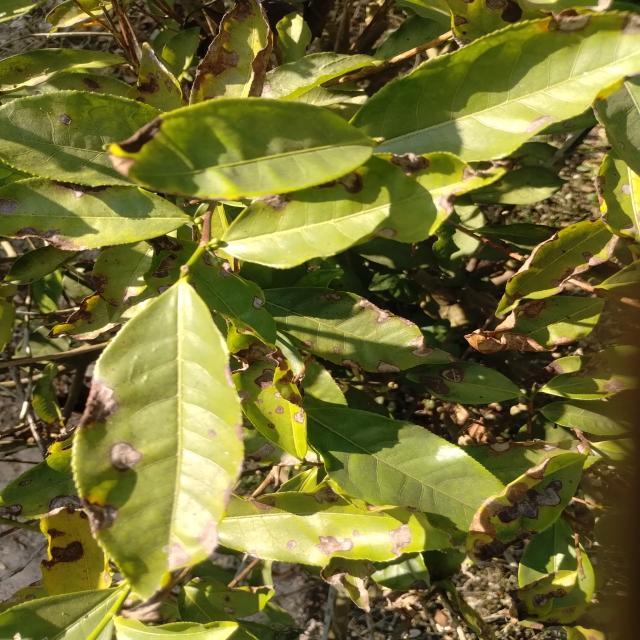Leaf: (72, 279, 244, 599), (351, 12, 640, 161), (222, 153, 504, 268), (108, 98, 375, 200), (308, 405, 504, 531), (219, 492, 451, 566), (264, 287, 450, 373), (0, 91, 159, 186), (0, 178, 189, 251), (466, 452, 587, 562), (48, 242, 177, 340), (496, 219, 617, 315), (227, 320, 308, 460), (190, 0, 271, 104), (465, 296, 604, 353), (190, 253, 276, 341), (0, 587, 126, 640), (41, 508, 111, 595), (460, 439, 582, 485), (0, 448, 80, 518), (262, 53, 382, 99), (0, 48, 125, 92), (540, 345, 640, 399), (92, 241, 153, 320), (408, 362, 519, 404), (595, 75, 640, 175), (540, 545, 595, 624), (518, 518, 577, 587), (596, 151, 640, 242), (127, 43, 182, 111), (468, 167, 563, 204), (192, 576, 274, 617), (540, 400, 631, 436), (375, 15, 448, 59), (516, 569, 578, 619), (321, 557, 375, 612), (115, 616, 238, 640), (145, 238, 197, 294), (4, 246, 78, 284), (371, 552, 430, 591), (476, 223, 560, 250), (161, 27, 200, 79), (46, 0, 111, 30), (276, 12, 311, 64), (33, 363, 62, 425), (293, 268, 344, 287)
